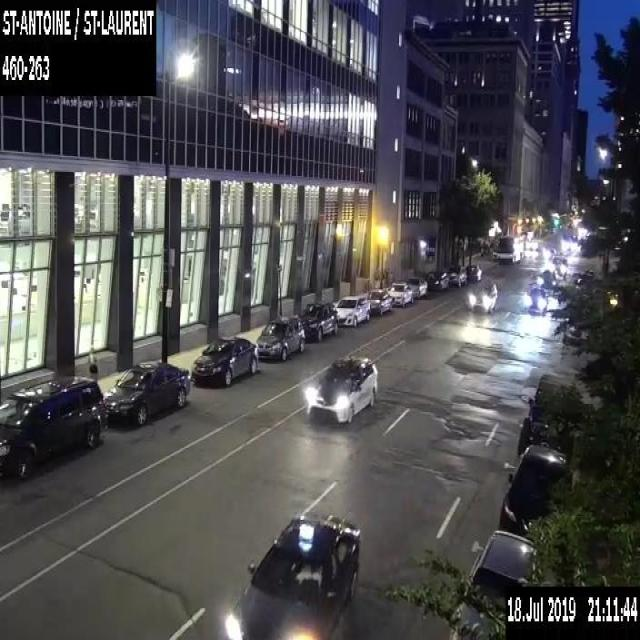bus: (497, 233, 523, 264)
pedestrian: (86, 345, 95, 377), (90, 357, 98, 381)
vehicle: (222, 509, 362, 639), (0, 374, 104, 481), (450, 528, 538, 639), (499, 444, 572, 536), (102, 360, 190, 427), (516, 372, 576, 458), (307, 354, 377, 425), (190, 335, 258, 384), (255, 314, 305, 359), (299, 300, 338, 341), (334, 294, 370, 326), (470, 280, 497, 310), (563, 316, 589, 344), (366, 287, 392, 313), (388, 281, 412, 305), (404, 275, 427, 298), (425, 269, 449, 290), (446, 264, 467, 288), (527, 286, 547, 310), (539, 268, 557, 288), (464, 263, 482, 281), (552, 256, 567, 275), (526, 238, 537, 249)
